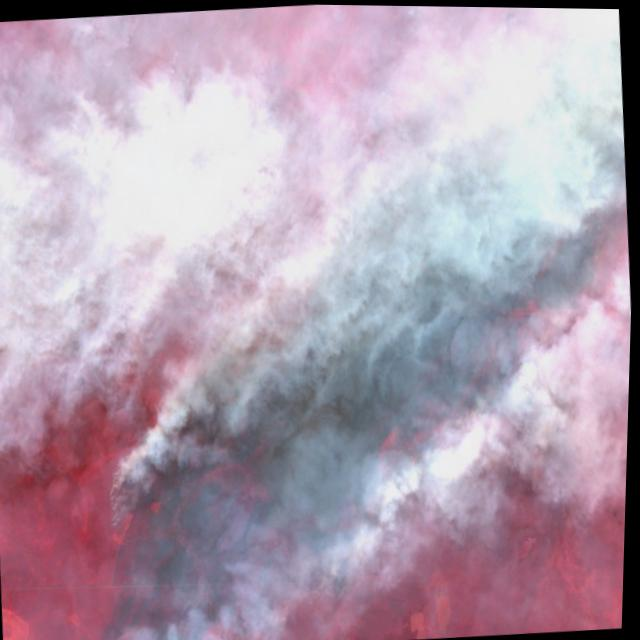fire: (69, 1, 640, 640)
